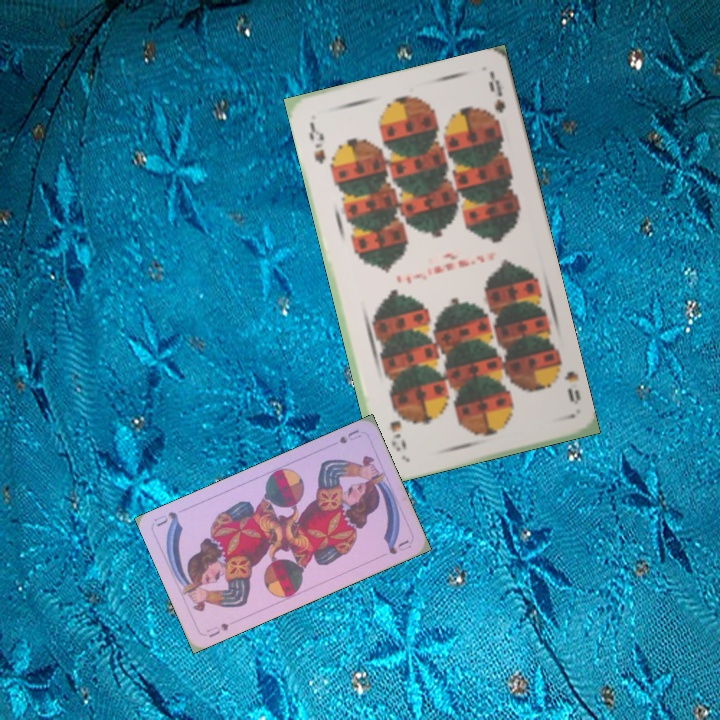S9: (548, 355, 583, 407), (305, 117, 329, 167)
SU: (335, 425, 364, 446), (202, 619, 231, 640)
